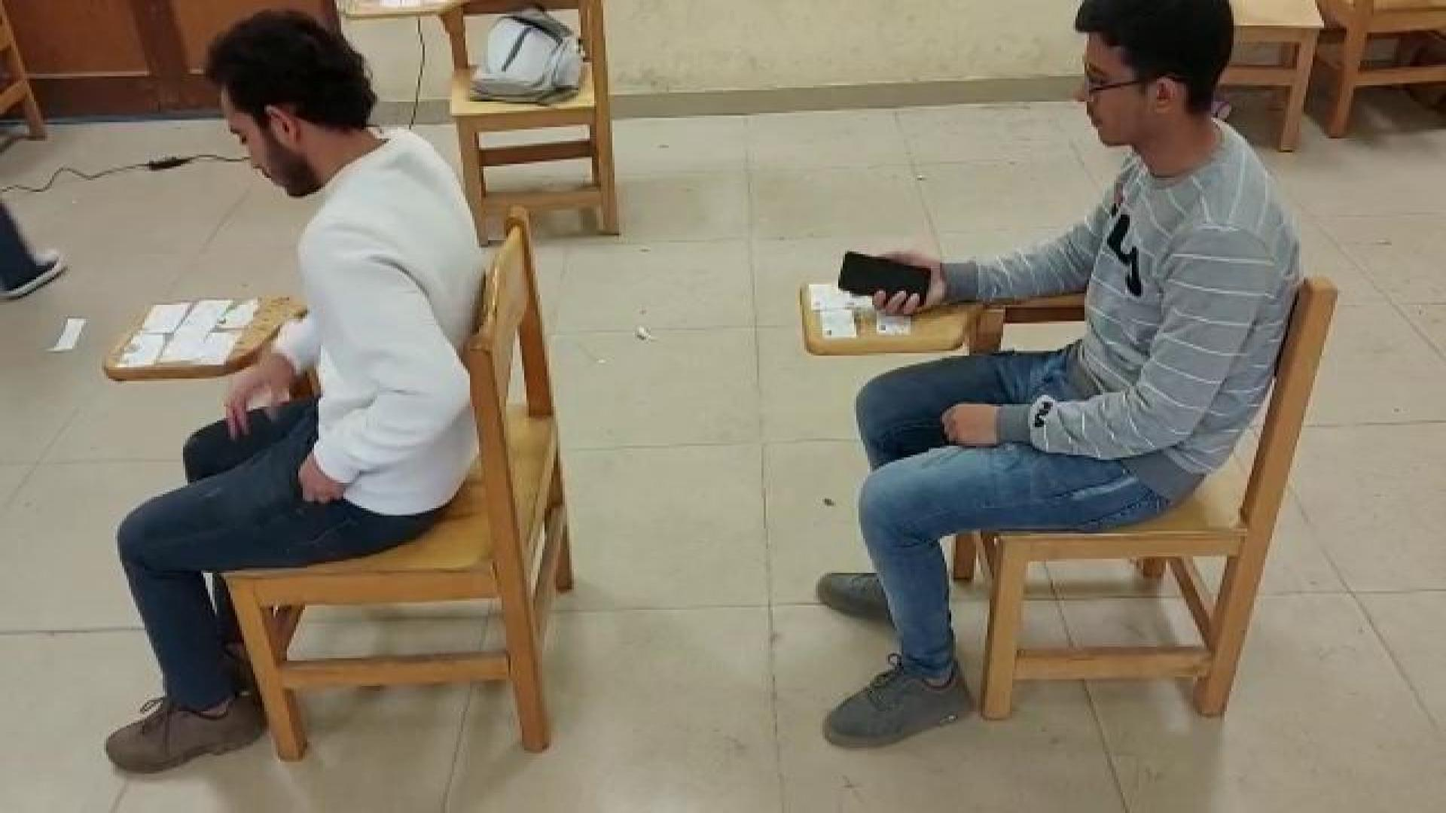phone: (838, 247, 933, 303)
